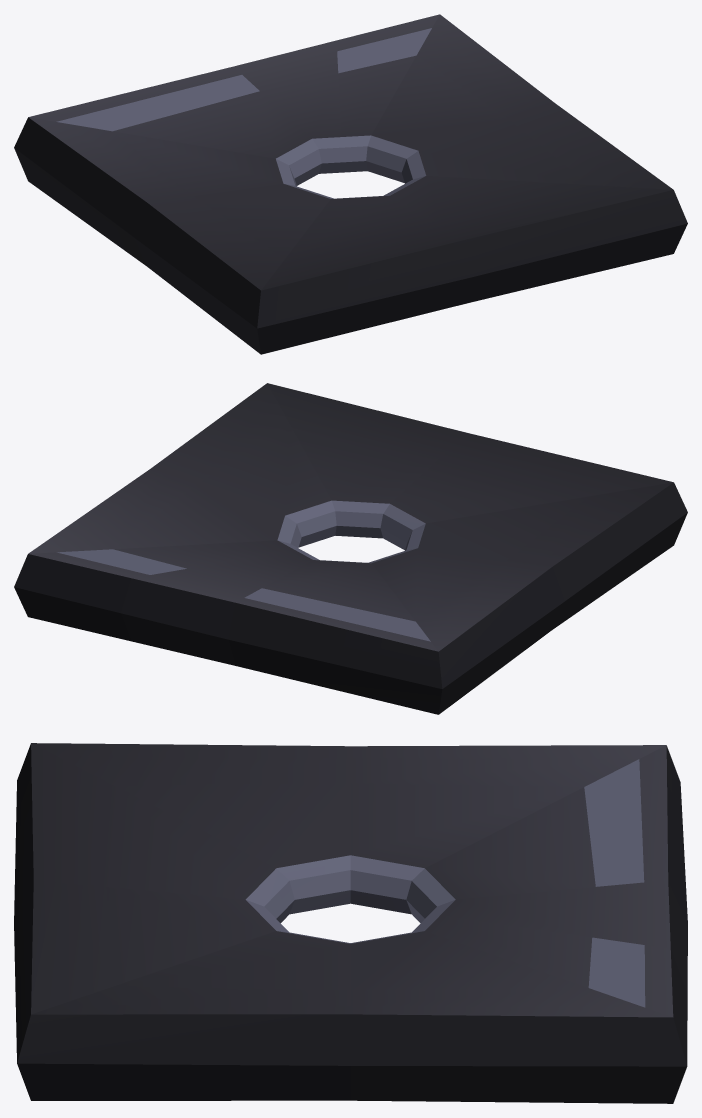
The model's file is Disquete.fbx.
3 views of the same model, one above another, from view 1: azimuth 30°, elevation 25°; view 2: azimuth 150°, elevation 25°; view 3: azimuth 270°, elevation 25° (orthographic). The views are drawn at different scales.
Parts seen in each view (by area): view 1: DiskRetro; view 2: DiskRetro; view 3: DiskRetro.
Boxes of the visible parts, x1,y1,x2,y2 form: DiskRetro: (14, 14, 687, 354); DiskRetro: (14, 383, 687, 714); DiskRetro: (14, 743, 687, 1103).
Size of the model in its own units: 6.64 by 0.9341 by 6.61.
